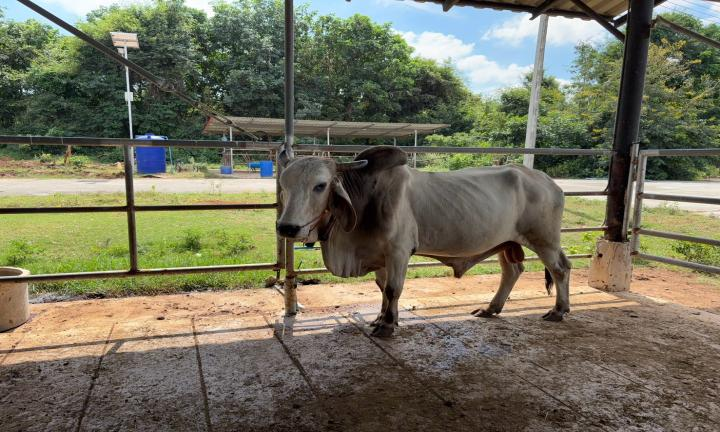Brahman: (276, 145, 571, 336)
